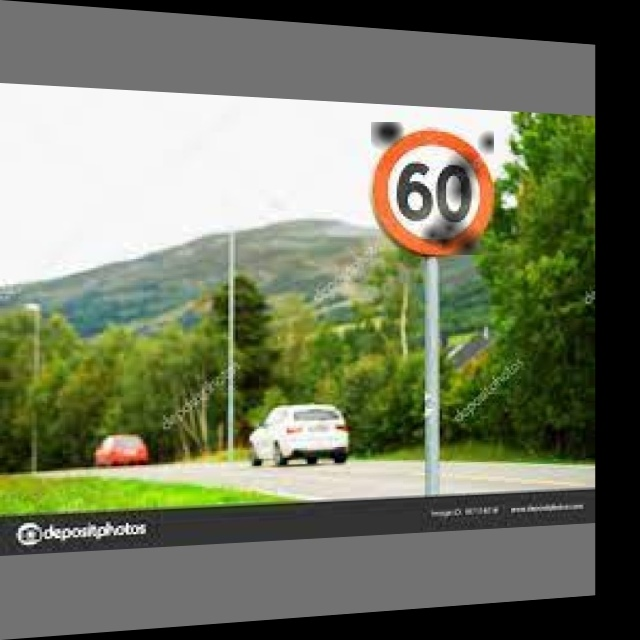Speed_Limit_60: (371, 122, 494, 255)
